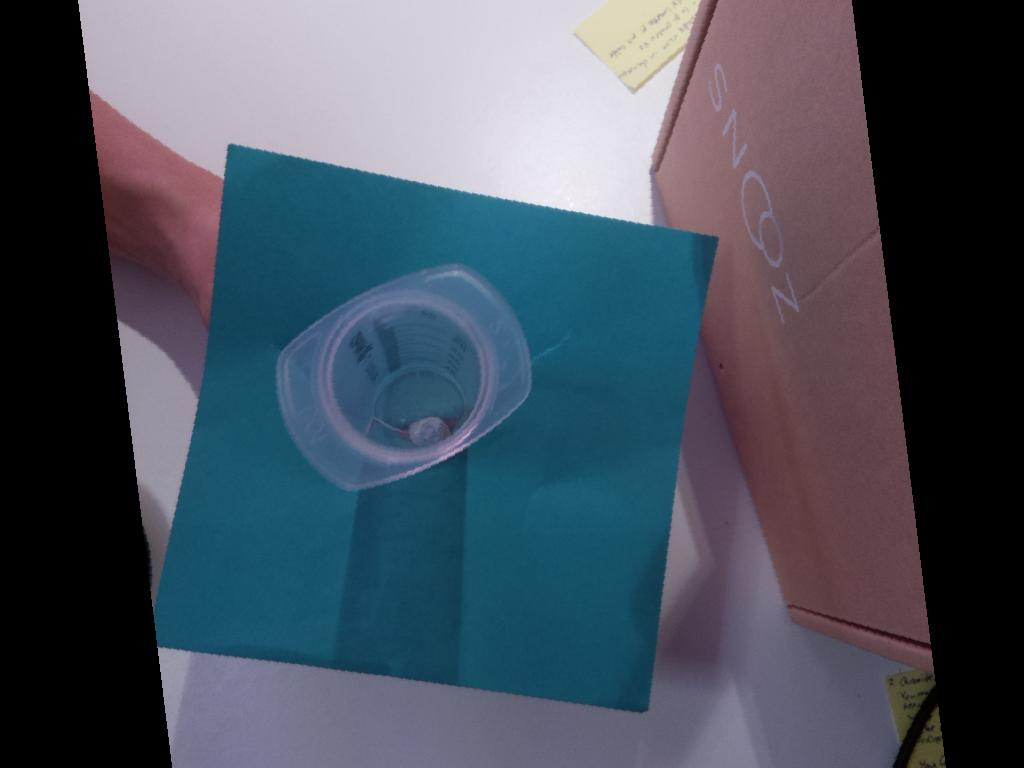clean: (275, 262, 533, 492)
